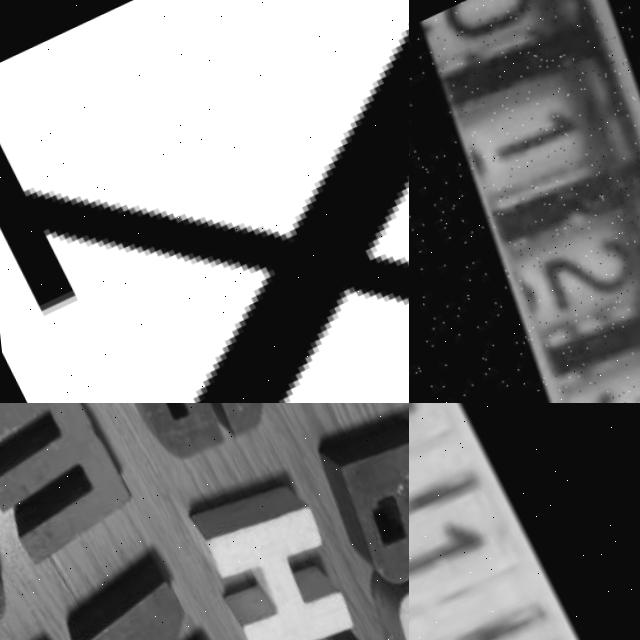0: (432, 0, 561, 68)
1: (461, 79, 605, 200), (409, 495, 500, 603)
2: (506, 208, 640, 338)
3: (565, 340, 640, 403)
B: (288, 403, 409, 608)
C: (349, 554, 409, 640)
G: (83, 403, 278, 482)
H: (181, 492, 365, 640)
M: (0, 403, 137, 572)
N: (44, 567, 224, 640)
X: (0, 0, 409, 403)
